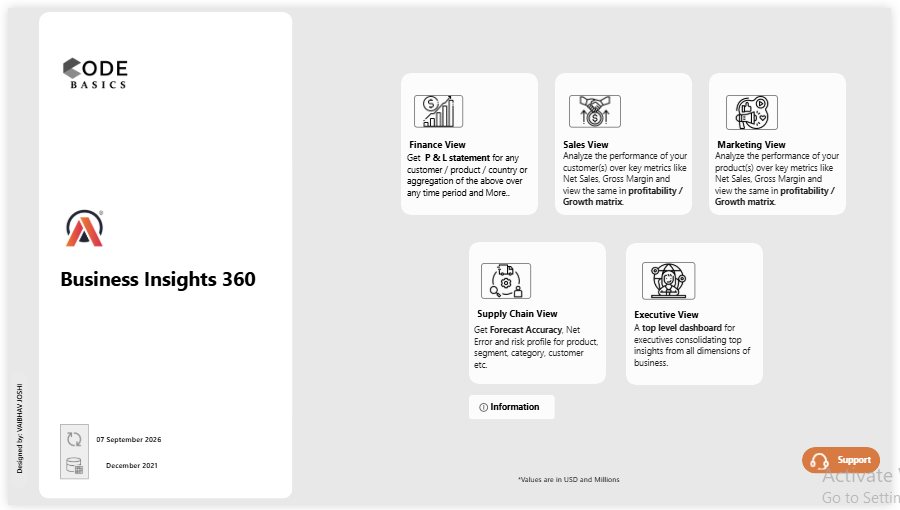

The dashboard page shown, as its layout file describes it:
{"tool":"powerbi","page":{"name":"Home","canvas":[1920,1080],"ordinal":0},"visuals":[{"type":"actionButton","box":[1344.4,511.1,297.8,308.9],"z":0},{"type":"actionButton","box":[1001.1,507.8,297.8,308.9],"z":1000},{"type":"actionButton","box":[1524.4,142.2,297.8,308.9],"z":2000},{"type":"actionButton","box":[1188.9,142.2,297.8,308.9],"z":3000},{"type":"shape","box":[66.7,8.9,551.1,1057.8],"z":4000},{"type":"actionButton","box":[853.3,142.2,297.8,308.9],"z":5000},{"type":"image","box":[1377.8,553,115.6,82.2],"z":6000},{"type":"image","box":[1028.9,553.3,108.9,77.8],"z":7000},{"type":"textbox","box":[866.7,300,271.1,180],"z":8000},{"type":"textbox","box":[1100,1013.3,238.3,38.3],"z":9000},{"type":"image","box":[113.3,437.8,108.9,82.2],"z":11000},{"type":"image","box":[113.3,60,149,164.4],"z":12000},{"type":"image","box":[126.7,920,35.6,35.6],"z":13000},{"type":"shape","box":[113.3,904.4,62.2,120],"z":14000},{"type":"image","box":[124.4,973.3,40,40],"z":15000},{"type":"textbox","box":[144.4,982.2,251.1,40],"z":16000},{"type":"cardVisual","fields":{"Data":["Min(Last_Refresh.Refresh_Timestamp)"]},"box":[175,902.5,257.5,70],"z":17000},{"type":"image","box":[882.2,188.9,106.7,71.1],"z":18000},{"type":"textbox","box":[113.3,546.7,457.8,93.3],"z":19000},{"type":"textbox","box":[1206.7,295.6,271.1,180],"z":20000},{"type":"image","box":[1220,188.9,113.3,71.1],"z":21000},{"type":"textbox","box":[1537.8,295.6,271.1,180],"z":22000},{"type":"textbox","box":[1013.3,673.3,271.1,180],"z":23000},{"type":"textbox","box":[1360,668.9,271.1,180],"z":24000},{"type":"actionButton","box":[1002.2,842.2,186.7,53.3],"z":25000},{"type":"actionButton","box":[1725,955,170,57.5],"z":26000},{"type":"image","box":[1560,188.9,113.3,75.6],"z":27000},{"type":"actionButton","title":"AB Signature","box":[7.5,790,35,255],"z":28000}]}

Visuals, with their boxes in screenshot pixels (x1, y1, x2, y2), scaled from the page's 1920x1080 canvas onto the 900x510 screenshot:
actionButton: box=[630, 241, 770, 387]
actionButton: box=[469, 240, 609, 386]
actionButton: box=[715, 67, 854, 213]
actionButton: box=[557, 67, 697, 213]
shape: box=[31, 4, 290, 504]
actionButton: box=[400, 67, 540, 213]
image: box=[646, 261, 700, 300]
image: box=[482, 261, 533, 298]
textbox: box=[406, 142, 533, 227]
textbox: box=[516, 479, 627, 497]
image: box=[53, 207, 104, 246]
image: box=[53, 28, 123, 106]
image: box=[59, 434, 76, 451]
shape: box=[53, 427, 82, 484]
image: box=[58, 460, 77, 479]
textbox: box=[68, 464, 185, 483]
cardVisual - Min(Last_Refresh.Refresh_Timestamp): box=[82, 426, 203, 459]
image: box=[414, 89, 464, 123]
textbox: box=[53, 258, 268, 302]
textbox: box=[566, 140, 693, 225]
image: box=[572, 89, 625, 123]
textbox: box=[721, 140, 848, 225]
textbox: box=[475, 318, 602, 403]
textbox: box=[638, 316, 765, 401]
actionButton: box=[470, 398, 557, 423]
actionButton: box=[809, 451, 888, 478]
image: box=[731, 89, 784, 125]
"AB Signature" actionButton: box=[4, 373, 20, 493]
